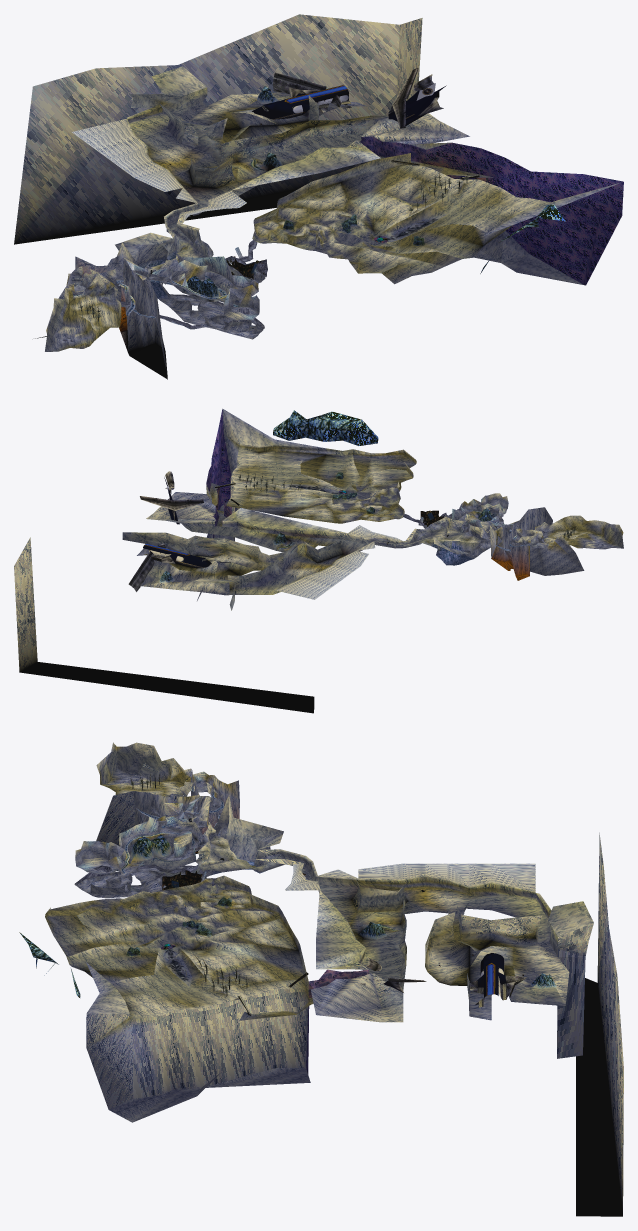
File: CrashSiteConfrontation.glb
3 renders of one model, top to bottom at view 1: azimuth 30°, elevation 25°; view 2: azimuth 150°, elevation 25°; view 3: azimuth 270°, elevation 25°, orthographic. The views are drawn at different scales.
Parts seen in each view (by area): view 1: CrashSiteConfrontation_3, CrashSiteConfrontation_41, CrashSiteConfrontation_0, CrashSiteConfrontation_16, CrashSiteConfrontation_6, CrashSiteConfrontation_17, CrashSiteConfrontation_61, CrashSiteConfrontation_19, CrashSiteConfrontation_60, CrashSiteConfrontation_58; view 2: CrashSiteConfrontation_3, CrashSiteConfrontation_16, CrashSiteConfrontation_41, CrashSiteConfrontation_6, CrashSiteConfrontation_0, CrashSiteConfrontation_19; view 3: CrashSiteConfrontation_3, CrashSiteConfrontation_16, CrashSiteConfrontation_17, CrashSiteConfrontation_41, CrashSiteConfrontation_0.
Part boxes in pixels (bbox=[...]): CrashSiteConfrontation_3: bbox=[14, 14, 621, 379]; CrashSiteConfrontation_41: bbox=[360, 136, 623, 285]; CrashSiteConfrontation_0: bbox=[252, 85, 446, 125]; CrashSiteConfrontation_16: bbox=[185, 86, 565, 294]; CrashSiteConfrontation_6: bbox=[149, 72, 443, 272]; CrashSiteConfrontation_17: bbox=[126, 94, 424, 312]; CrashSiteConfrontation_61: bbox=[101, 239, 267, 328]; CrashSiteConfrontation_19: bbox=[274, 68, 418, 128]; CrashSiteConfrontation_60: bbox=[73, 275, 236, 329]; CrashSiteConfrontation_58: bbox=[385, 213, 448, 241]; CrashSiteConfrontation_3: bbox=[14, 408, 623, 713]; CrashSiteConfrontation_16: bbox=[161, 410, 492, 580]; CrashSiteConfrontation_41: bbox=[206, 409, 231, 538]; CrashSiteConfrontation_6: bbox=[131, 471, 496, 591]; CrashSiteConfrontation_0: bbox=[143, 477, 211, 567]; CrashSiteConfrontation_19: bbox=[128, 496, 203, 585]; CrashSiteConfrontation_3: bbox=[45, 742, 623, 1216]; CrashSiteConfrontation_16: bbox=[19, 834, 554, 997]; CrashSiteConfrontation_17: bbox=[117, 815, 556, 989]; CrashSiteConfrontation_41: bbox=[306, 969, 368, 1074]; CrashSiteConfrontation_0: bbox=[383, 953, 506, 999].
Size of the model in its own units: 5532 by 1841 by 4654.
81 materials, 81 textured.
